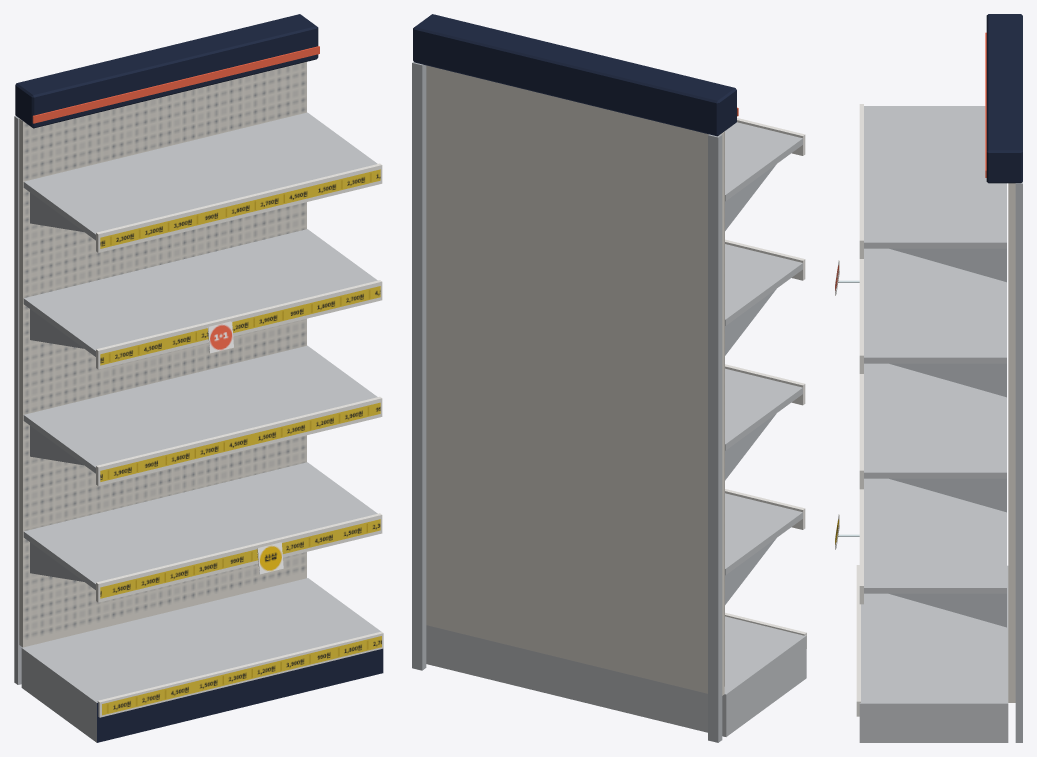
Rendered from SC_Fix_Shelf_Wall_900.gltf.
The picture shows the model from 3 angles, left to right: view 1: azimuth 30°, elevation 25°; view 2: azimuth 150°, elevation 25°; view 3: azimuth 270°, elevation 25°; orthographic projection. The views are drawn at different scales.
Parts seen in each view (by area): view 1: SC_Fix_Shelf_Wall_900; view 2: SC_Fix_Shelf_Wall_900; view 3: SC_Fix_Shelf_Wall_900.
Boxes of the visible parts, <box> form: SC_Fix_Shelf_Wall_900: <box>14,14,383,742</box>; SC_Fix_Shelf_Wall_900: <box>412,14,806,742</box>; SC_Fix_Shelf_Wall_900: <box>835,14,1022,742</box>.
Size of the model in its own units: 0.9 by 1.8 by 0.5177.
2 materials, 2 textured.
